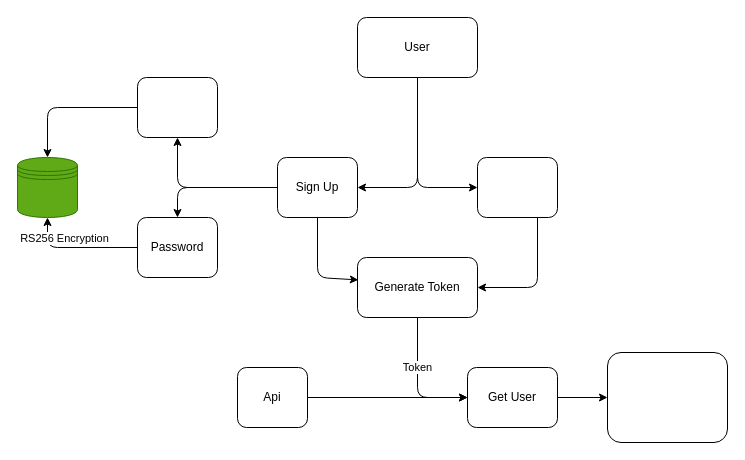
Image size: 745x460. Some labels were removed from this diagram. Here are the shapes that lost their labels. From the top down, the box of each, then its label:
(136, 76, 218, 138): Name Emal Username
(476, 156, 558, 218): Login
(606, 352, 728, 442): Username Email Name Role Subscription
